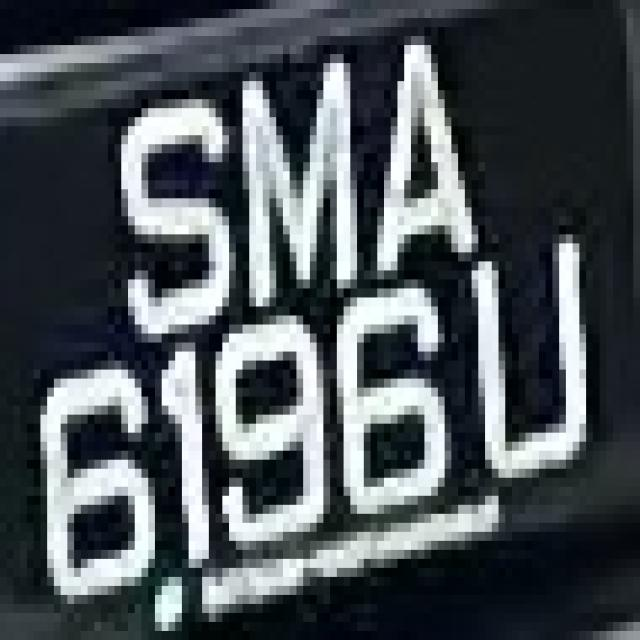1: (142, 306, 229, 586)
6: (316, 279, 464, 532), (27, 361, 175, 604)
9: (195, 297, 337, 568)
A: (364, 18, 478, 288)
M: (222, 45, 370, 298)
S: (108, 81, 249, 352)
U: (458, 216, 600, 478)
